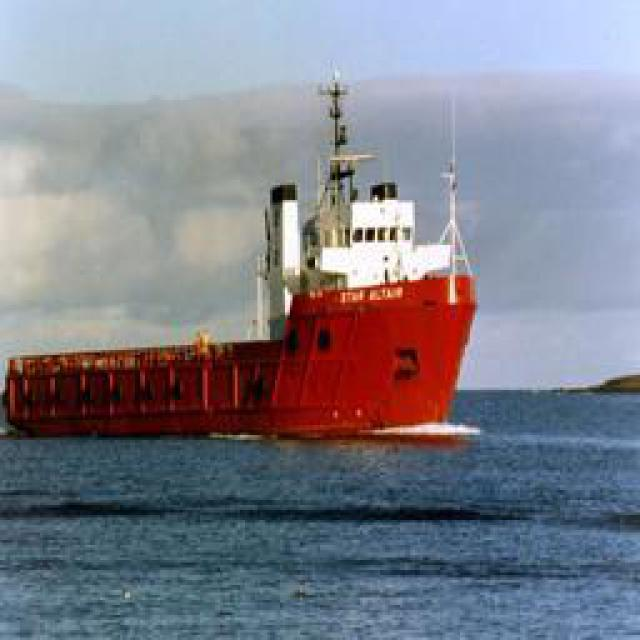Ship: (41, 73, 489, 441)
